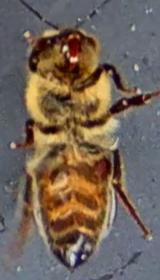varroa_mite: (88, 150, 115, 184)
